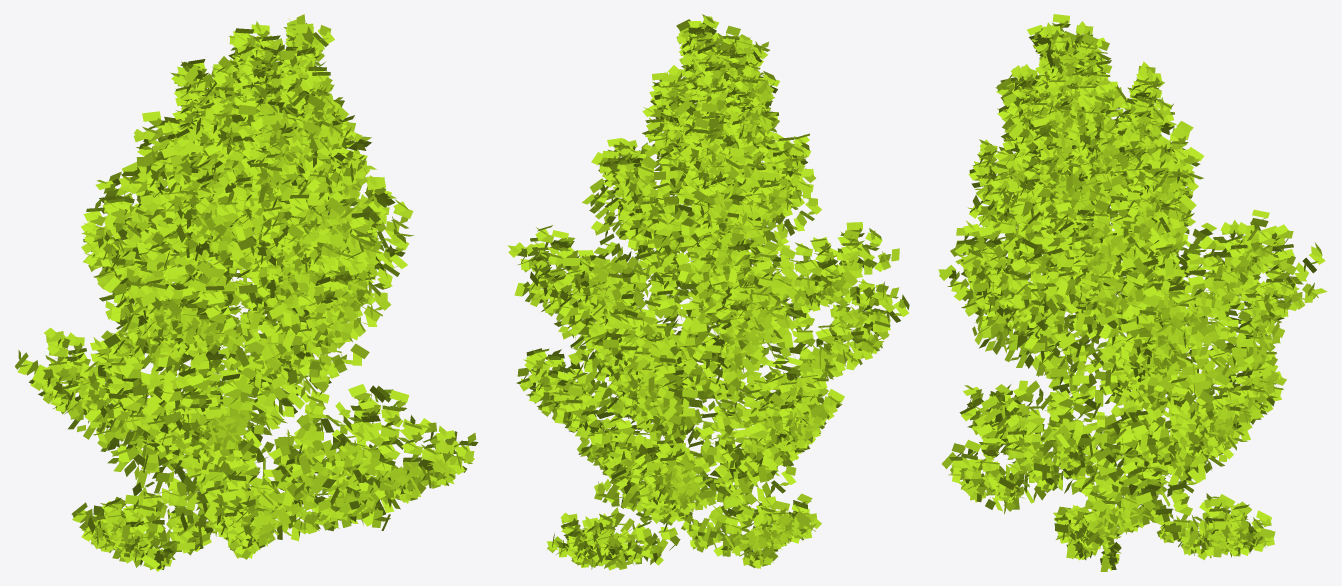
The model's file is treeLeavesDiffuseSpecular.dae.
The picture shows the model from 3 angles, left to right: view 1: azimuth 30°, elevation 25°; view 2: azimuth 150°, elevation 25°; view 3: azimuth 270°, elevation 25°; orthographic projection. The views are drawn at different scales.
Parts seen in each view (by area): view 1: leaves; view 2: leaves; view 3: leaves.
Boxes of the visible parts, x1=… form: leaves: x1=15, y1=14, x2=478, y2=571; leaves: x1=507, y1=14, x2=909, y2=570; leaves: x1=938, y1=14, x2=1327, y2=571.
Size of the model in its own units: 7.9 by 7.94 by 11.62.
1 material, 1 textured.
